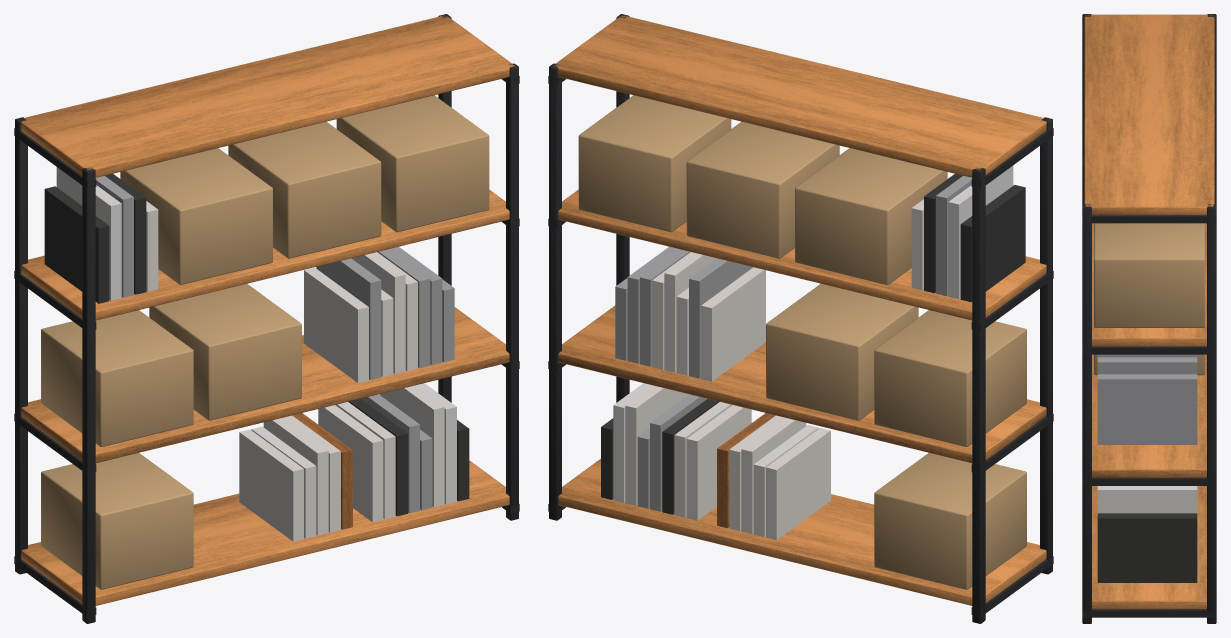
File: storage.open-shelf-wide.glb
3 renders of one model, left to right at view 1: azimuth 30°, elevation 25°; view 2: azimuth 150°, elevation 25°; view 3: azimuth 270°, elevation 25°, orthographic. The views are drawn at different scales.
Parts seen in each view (by area): view 1: storage.open-shelf-wide.001; view 2: storage.open-shelf-wide.001; view 3: storage.open-shelf-wide.001.
Boxes of the visible parts, x1,y1,x2,y2 form: storage.open-shelf-wide.001: [14, 14, 519, 623]; storage.open-shelf-wide.001: [548, 14, 1053, 623]; storage.open-shelf-wide.001: [1082, 14, 1216, 623].
Bounding box in the file's own units: 1.2 × 1.2 × 0.35.
Materials: 8 (2 with a texture image).
